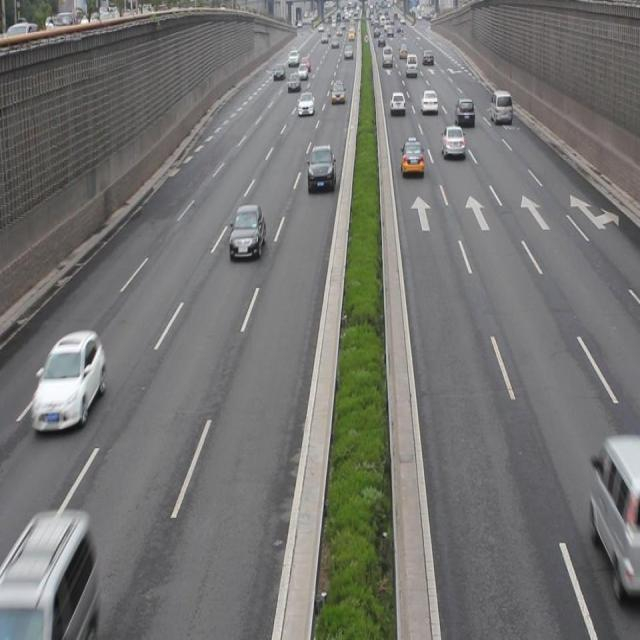car: (31, 329, 106, 433), (230, 203, 266, 260), (307, 145, 336, 192), (400, 138, 424, 176), (440, 124, 465, 158), (455, 98, 474, 126)
truck: (0, 506, 99, 640), (587, 435, 640, 596), (490, 88, 513, 124)
